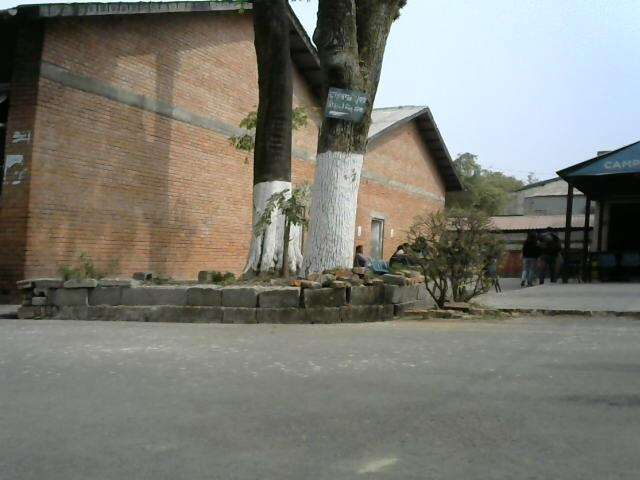Building: (4, 0, 266, 274), (375, 94, 473, 204)
Road: (4, 321, 640, 480)
Tree: (241, 1, 386, 283), (396, 196, 516, 314)
